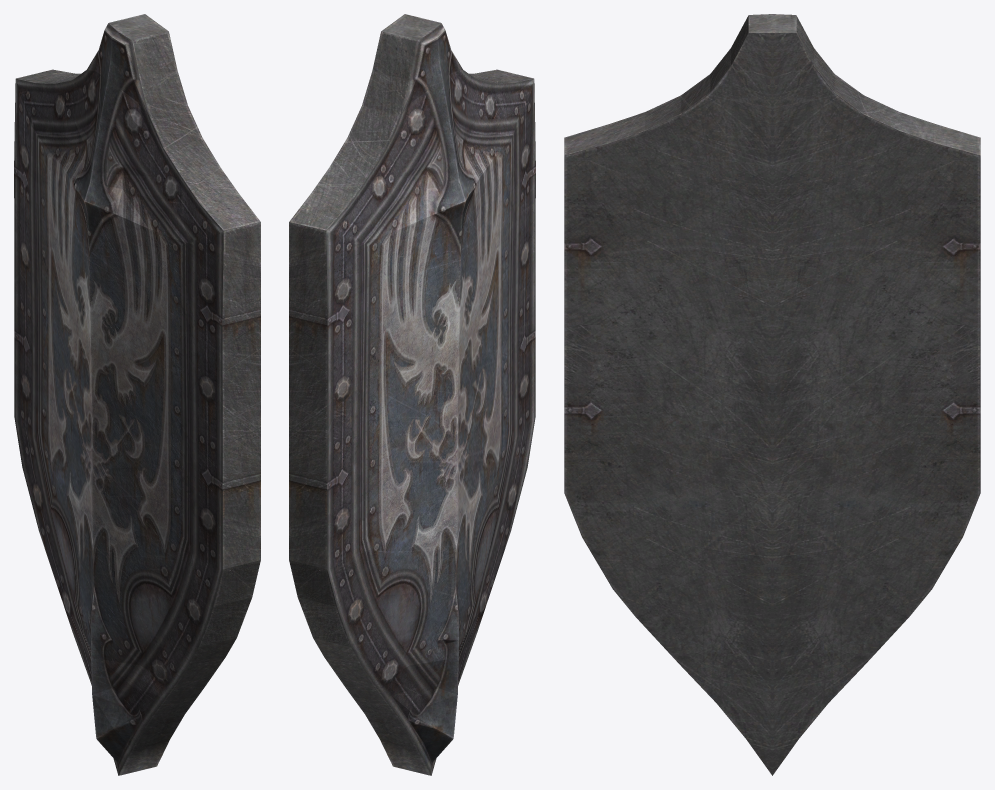
The model's file is bg_lut_lucastle_castlearms01_sm_bjh.FBX.
3 views of the same model, side by side, from view 1: azimuth 30°, elevation 25°; view 2: azimuth 150°, elevation 25°; view 3: azimuth 270°, elevation 25° (orthographic).
Parts seen in each view (by area): view 1: bg_lut_lucastle_castlearms01_sm_bjh; view 2: bg_lut_lucastle_castlearms01_sm_bjh; view 3: bg_lut_lucastle_castlearms01_sm_bjh.
Boxes of the visible parts, x1,y1,x2,y2 form: bg_lut_lucastle_castlearms01_sm_bjh: [14, 14, 260, 775]; bg_lut_lucastle_castlearms01_sm_bjh: [289, 14, 535, 775]; bg_lut_lucastle_castlearms01_sm_bjh: [564, 14, 980, 775].
Bounding box in the file's own units: 35.6 × 348 × 177.
